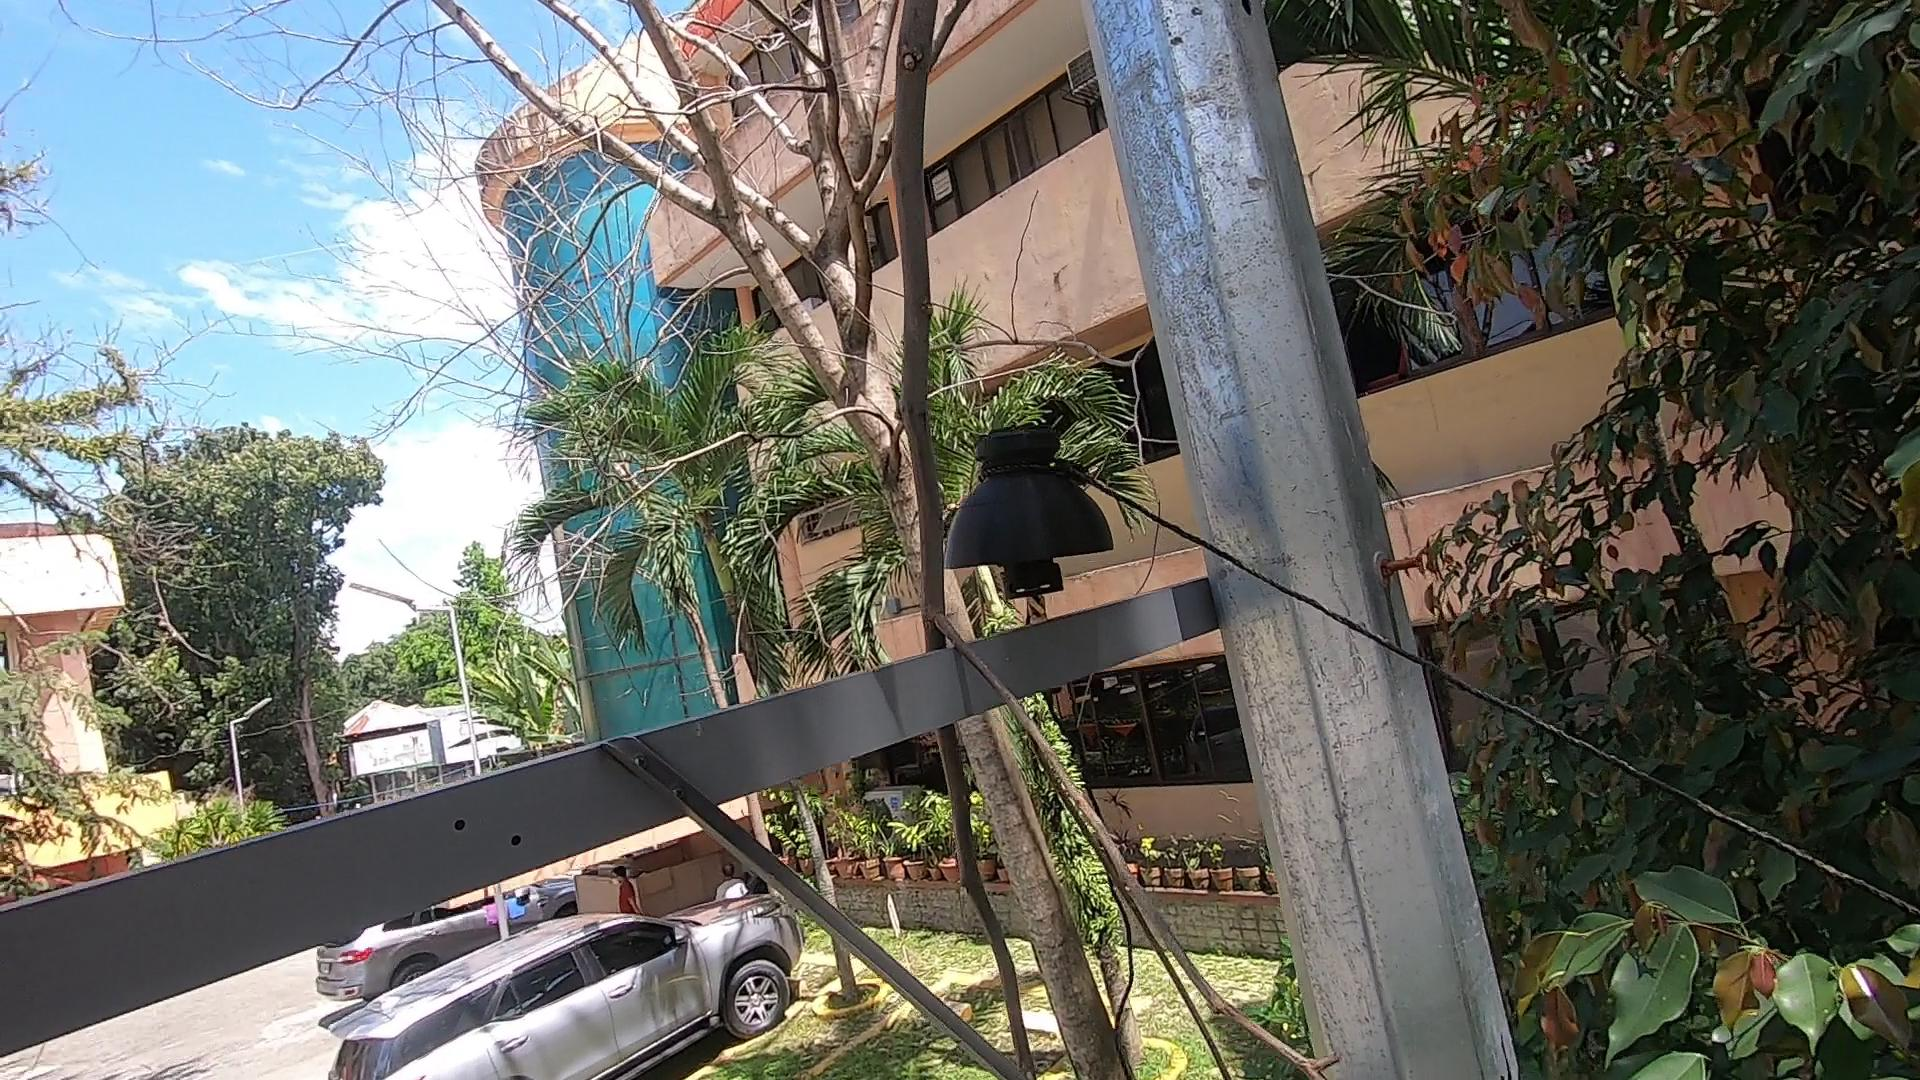tree branch: (811, 3, 1350, 1080)
